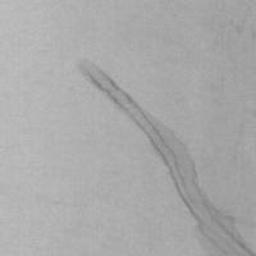Water spot: (76, 56, 256, 256)
